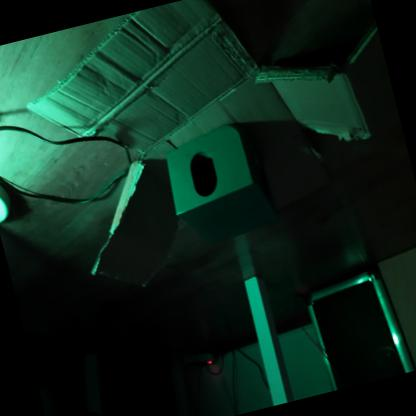CornerCasting: (160, 124, 281, 249)
